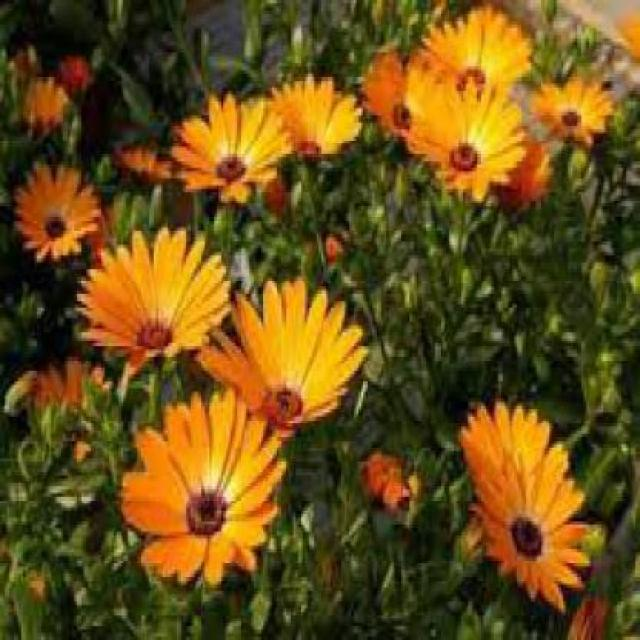Flower: (116, 388, 289, 585), (196, 276, 370, 441), (458, 399, 591, 613), (74, 224, 231, 364), (405, 70, 526, 199), (170, 91, 284, 206), (419, 7, 533, 116), (249, 77, 363, 161), (14, 161, 103, 265), (365, 48, 447, 147), (530, 78, 615, 150), (187, 493, 225, 536), (264, 388, 302, 420), (512, 521, 543, 559), (138, 321, 170, 354), (452, 147, 479, 168), (219, 157, 245, 178), (456, 70, 487, 87), (395, 105, 414, 129), (47, 217, 65, 241), (563, 112, 580, 126)
